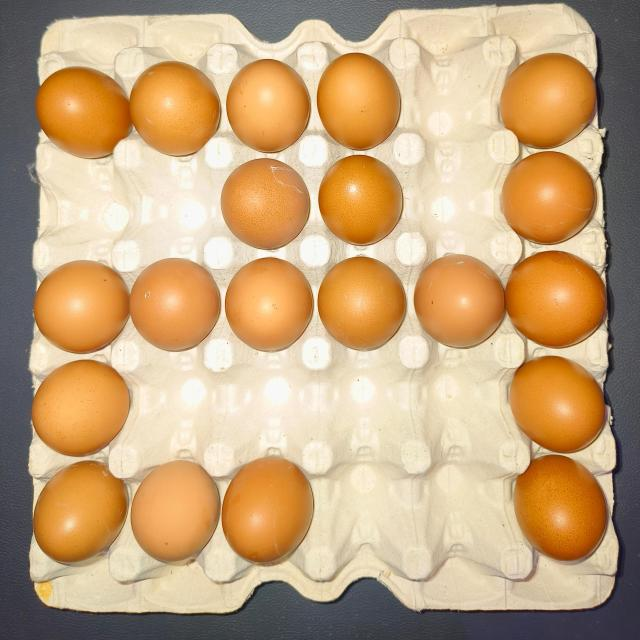Eggs: (508, 238, 610, 349), (505, 450, 607, 560), (216, 245, 315, 354), (226, 436, 310, 559), (25, 466, 131, 562), (504, 345, 606, 443), (318, 243, 408, 350), (23, 59, 128, 150), (497, 152, 615, 230), (35, 260, 131, 354), (135, 454, 216, 562), (125, 263, 216, 356), (328, 134, 407, 240), (136, 57, 219, 156), (417, 247, 508, 337), (322, 45, 400, 147), (230, 49, 306, 152), (29, 368, 129, 446), (216, 162, 310, 240), (508, 71, 588, 140)
